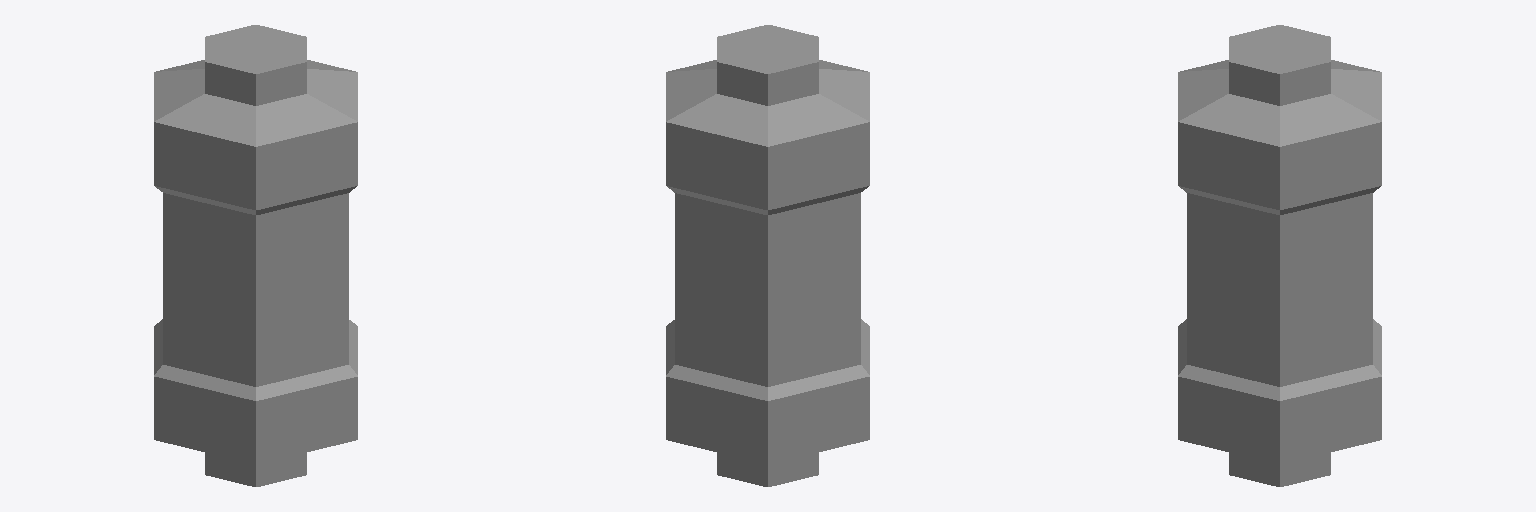
Rendered from Energy.obj.
3 views of the same model, side by side, from view 1: azimuth 30°, elevation 25°; view 2: azimuth 150°, elevation 25°; view 3: azimuth 270°, elevation 25° (orthographic).
Parts seen in each view (by area): view 1: Cylinder.028_Cylinder.025; view 2: Cylinder.028_Cylinder.025; view 3: Cylinder.028_Cylinder.025.
Boxes of the visible parts, <box> form: Cylinder.028_Cylinder.025: <box>154,25,357,486</box>; Cylinder.028_Cylinder.025: <box>666,25,869,486</box>; Cylinder.028_Cylinder.025: <box>1178,25,1381,486</box>.
Size of the model in its own units: 1.46 by 2.81 by 1.26.